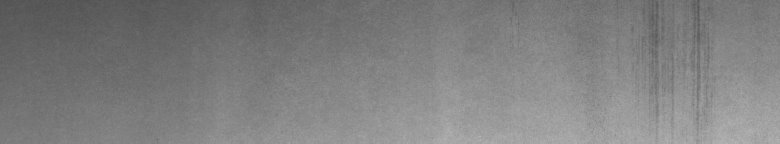ka: (652, 4, 703, 116)
